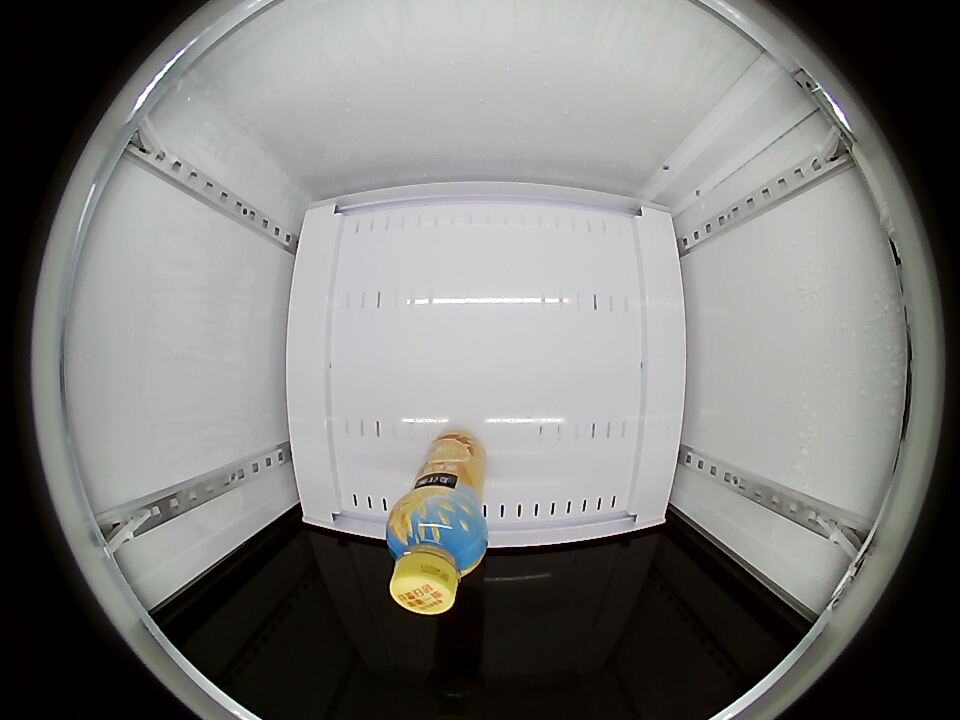guolicheng: (386, 492, 488, 615)
